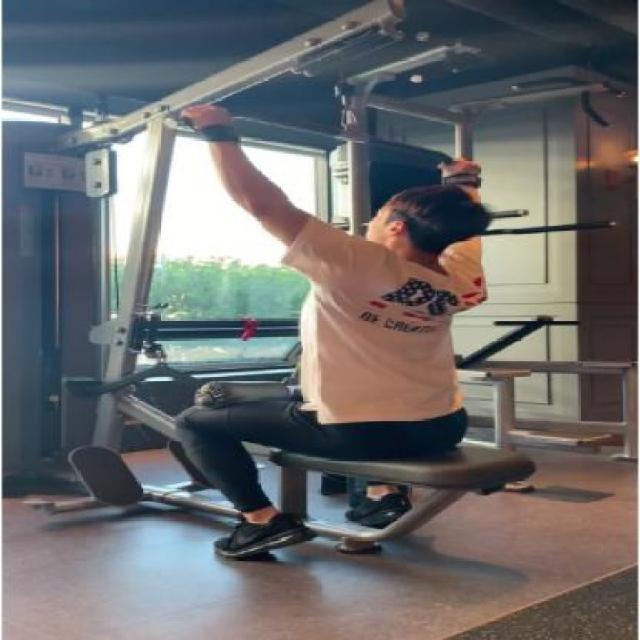Lat Pull Down: (14, 4, 560, 594)
